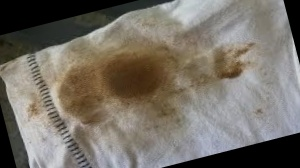earth: (56, 45, 173, 122), (211, 43, 247, 80)
